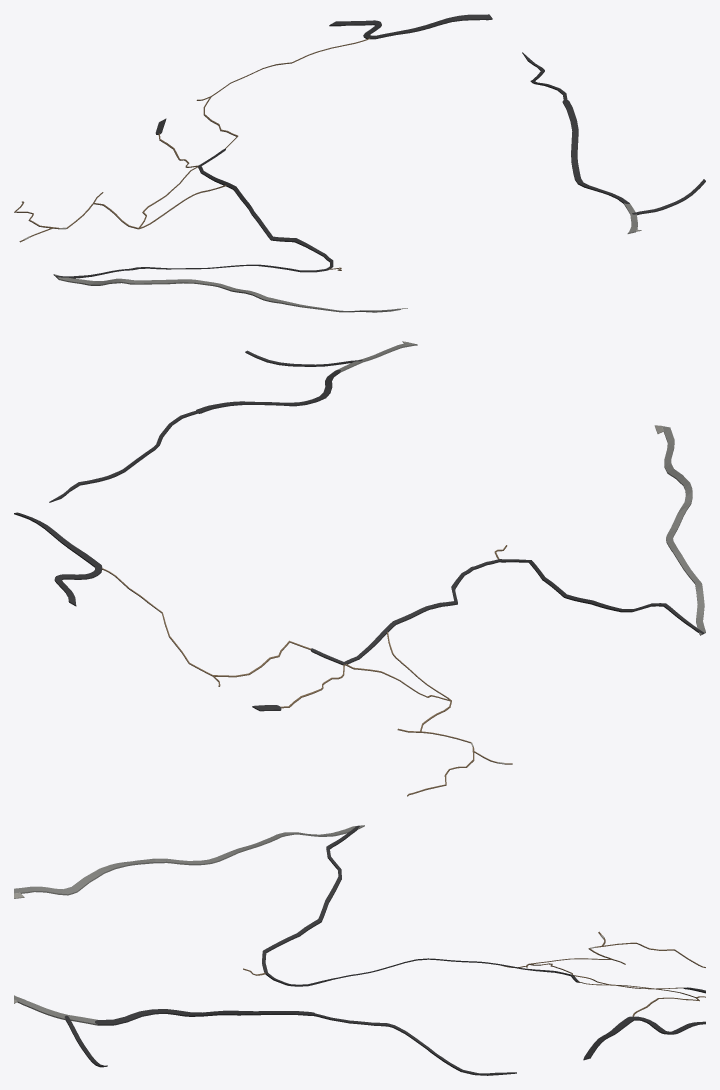
The picture shows the model from 3 angles, top to bottom: view 1: azimuth 30°, elevation 25°; view 2: azimuth 150°, elevation 25°; view 3: azimuth 270°, elevation 25°; orthographic projection. The views are drawn at different scales.
Bounding box in the file's own units: 587 × 146 × 583.
